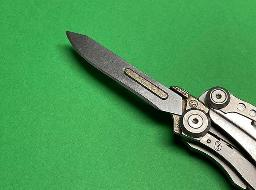scalpel: (66, 30, 256, 190)
